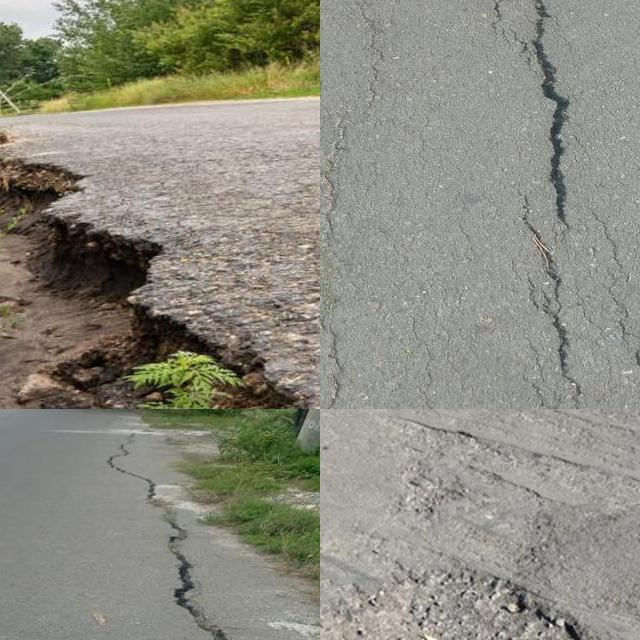Lubang: (320, 581, 589, 640)
Memanjang: (497, 0, 581, 409), (98, 433, 239, 640)
Pinggir: (0, 139, 316, 409)
